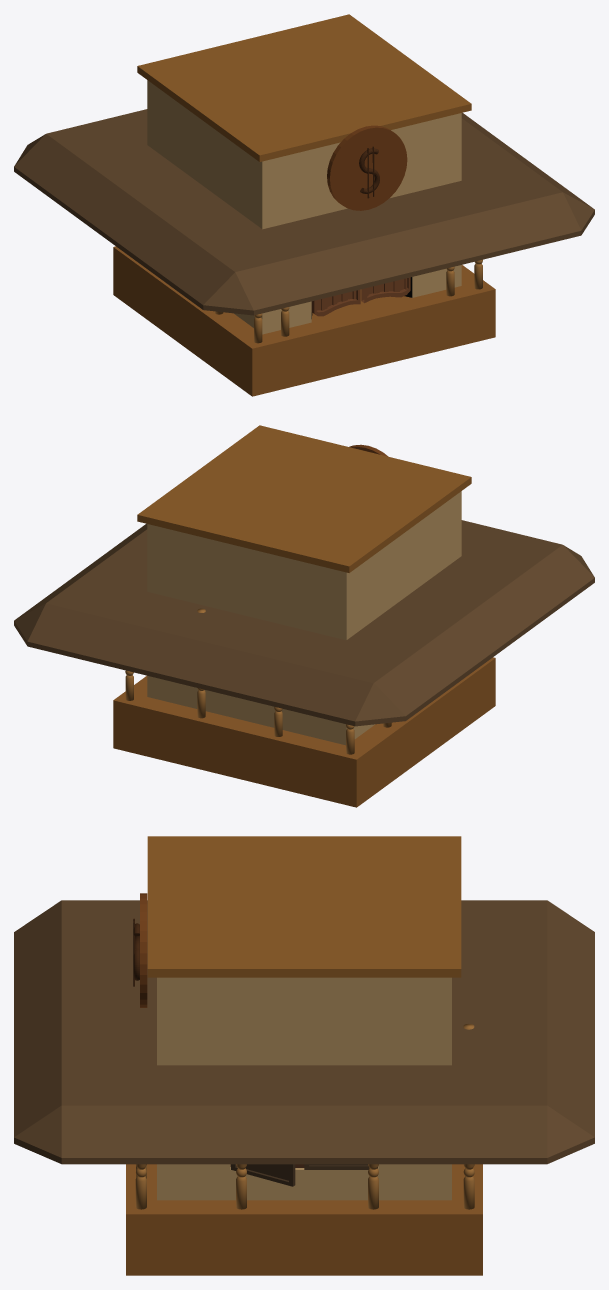
File: Banco.fbx
The picture shows the model from 3 angles, top to bottom: view 1: azimuth 30°, elevation 25°; view 2: azimuth 150°, elevation 25°; view 3: azimuth 270°, elevation 25°; orthographic projection. The views are drawn at different scales.
Visible parts, largest first — view 1: Banco, Teto, Chao, Circle, Porta, Torus.001; view 2: Banco, Teto, Chao; view 3: Banco, Teto, Chao, Circle, Cube.004.
Part boxes in pixels (left/top/right/bottom): Banco: left=14, top=80, right=594, bottom=334; Teto: left=137, top=14, right=471, bottom=161; Chao: left=113, top=246, right=495, bottom=396; Circle: left=327, top=125, right=407, bottom=210; Porta: left=311, top=277, right=410, bottom=316; Torus.001: left=359, top=146, right=379, bottom=198; Banco: left=14, top=491, right=594, bottom=745; Teto: left=137, top=425, right=471, bottom=572; Chao: left=113, top=657, right=495, bottom=807; Banco: left=14, top=900, right=594, bottom=1200; Teto: left=147, top=836, right=461, bottom=977; Chao: left=126, top=1164, right=482, bottom=1275; Circle: left=140, top=893, right=147, bottom=1007; Cube.004: left=231, top=1164, right=295, bottom=1186.
Size of the model in its own units: 4178 by 2387 by 4179.
